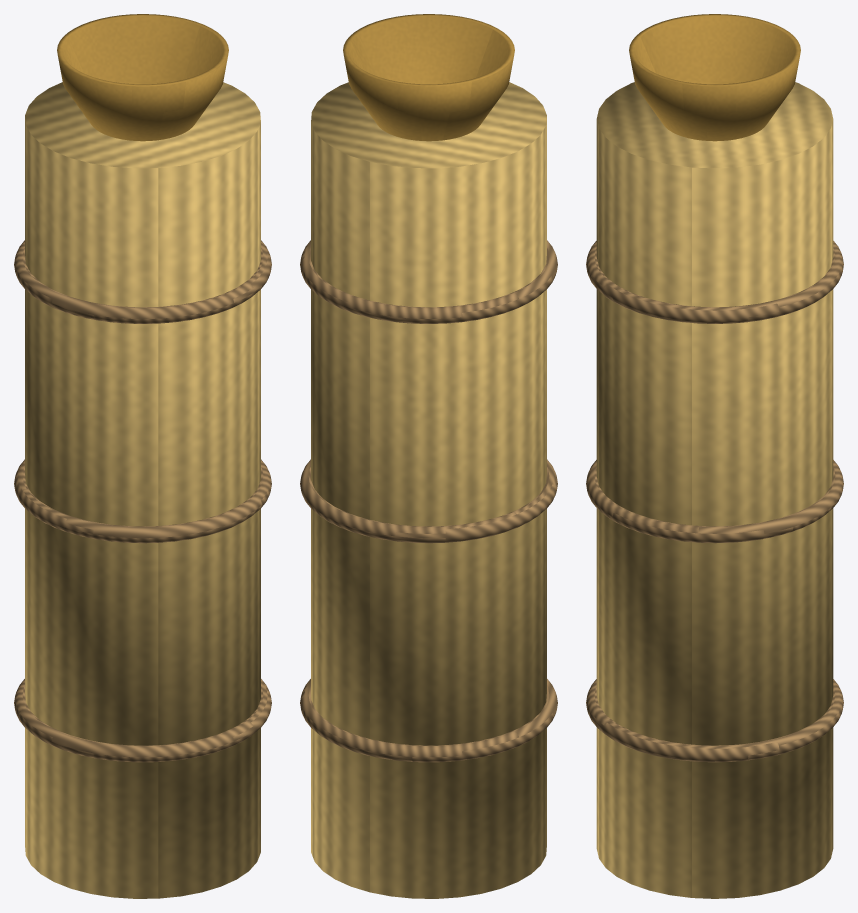
File: z2_yeongdon.obj
The picture shows the model from 3 angles, left to right: view 1: azimuth 30°, elevation 25°; view 2: azimuth 150°, elevation 25°; view 3: azimuth 270°, elevation 25°; orthographic projection.
Parts seen in each view (by area): view 1: yeongdon; view 2: yeongdon; view 3: yeongdon.
Part boxes in pixels (left/top/right/bottom): yeongdon: left=14, top=14, right=271, bottom=898; yeongdon: left=300, top=14, right=557, bottom=898; yeongdon: left=586, top=14, right=843, bottom=898.
Size of the model in its own units: 0.24 by 0.82 by 0.24.
Materials: 3 (3 with a texture image).
